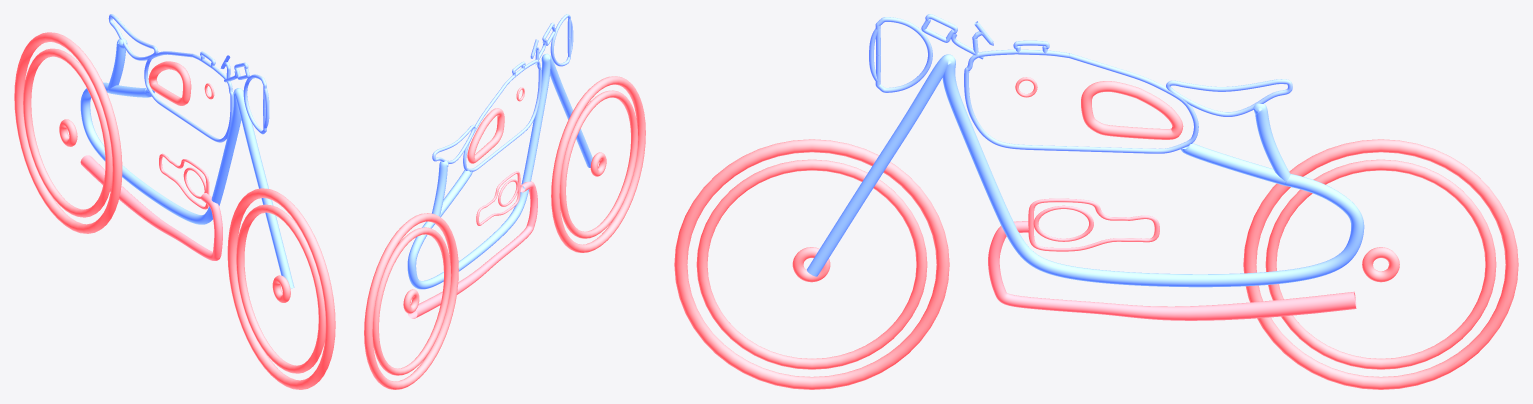
The model's file is bullet_neon_sign__motorbike_neon_sign_board.glb.
The picture shows the model from 3 angles, left to right: view 1: azimuth 30°, elevation 25°; view 2: azimuth 150°, elevation 25°; view 3: azimuth 270°, elevation 25°; orthographic projection. The views are drawn at different scales.
Visible parts, largest first — view 1: BezierCircle.004_2, NurbsPath.005_0, NurbsPath.007_4, NurbsPath.006_3, BezierCircle.002_1; view 2: BezierCircle.004_2, NurbsPath.005_0, NurbsPath.007_4, NurbsPath.006_3, BezierCircle.002_1; view 3: BezierCircle.004_2, NurbsPath.005_0, NurbsPath.007_4, NurbsPath.006_3, BezierCircle.002_1.
Boxes of the visible parts, left/top/right/bottom form: BezierCircle.004_2: left=14, top=32, right=335, bottom=389; NurbsPath.005_0: left=80, top=38, right=294, bottom=288; NurbsPath.007_4: left=108, top=14, right=269, bottom=142; NurbsPath.006_3: left=80, top=155, right=222, bottom=260; BezierCircle.002_1: left=159, top=153, right=209, bottom=209; BezierCircle.004_2: left=364, top=76, right=645, bottom=389; NurbsPath.005_0: left=407, top=53, right=592, bottom=289; NurbsPath.007_4: left=432, top=14, right=573, bottom=171; NurbsPath.006_3: left=407, top=181, right=537, bottom=318; BezierCircle.002_1: left=476, top=171, right=520, bottom=225; BezierCircle.004_2: left=674, top=77, right=1518, bottom=389; NurbsPath.005_0: left=807, top=54, right=1364, bottom=287; NurbsPath.007_4: left=869, top=14, right=1292, bottom=153; NurbsPath.006_3: left=988, top=221, right=1356, bottom=320; BezierCircle.002_1: left=1028, top=198, right=1159, bottom=251.
Bounding box in the file's own units: 0.2397 × 3.58 × 7.2.
